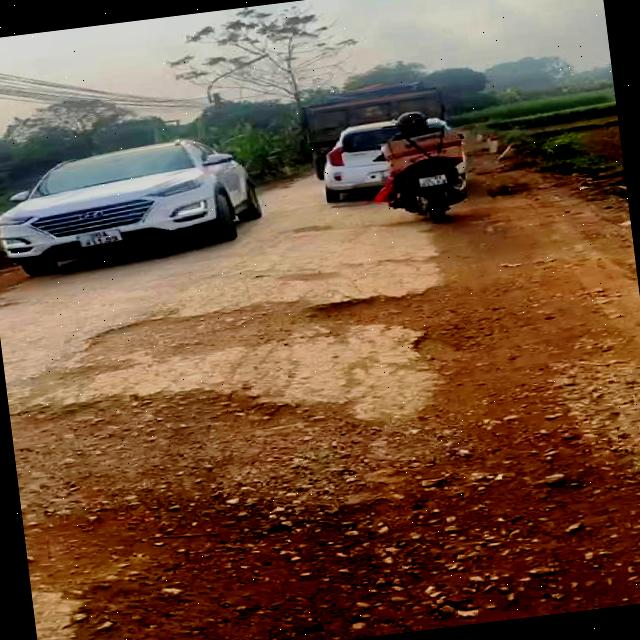pothole: (7, 322, 640, 640), (0, 271, 477, 412), (282, 265, 349, 288), (292, 221, 336, 236), (0, 287, 21, 312)
